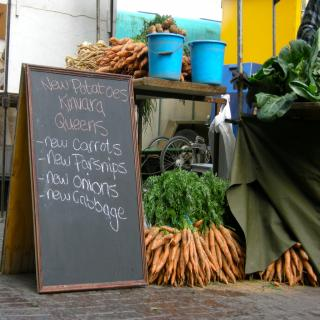Carrot: (147, 218, 242, 288), (92, 38, 192, 77), (260, 244, 320, 286)
